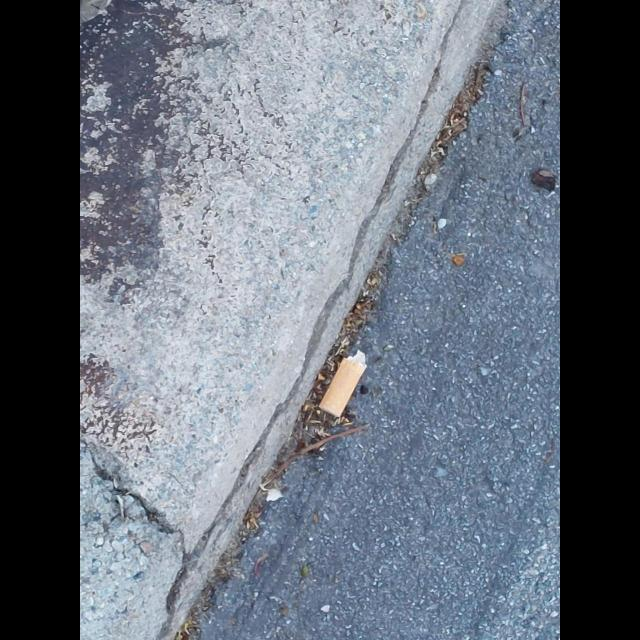cigarette: (318, 349, 368, 418)
